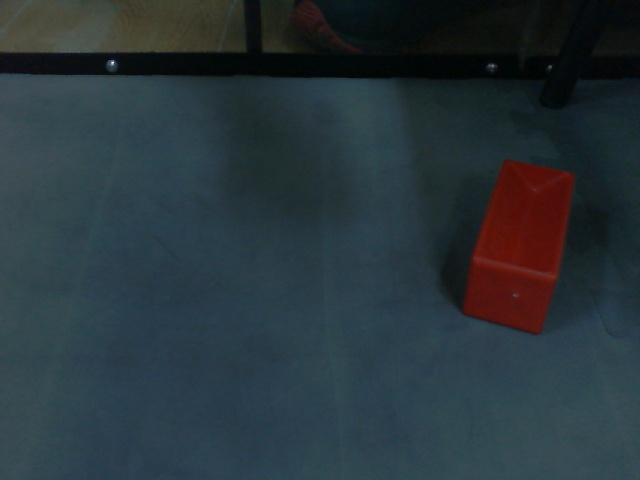RedSample: (457, 156, 578, 338)
